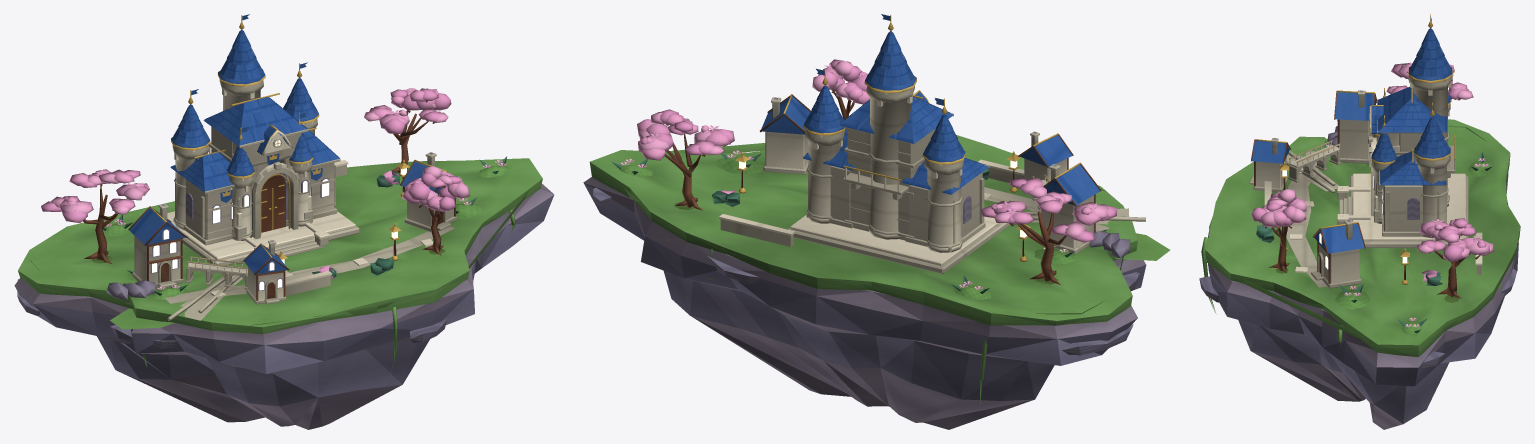
The model's file is royal-island-left-final-v1-low.glb.
3 views of the same model, side by side, from view 1: azimuth 30°, elevation 25°; view 2: azimuth 150°, elevation 25°; view 3: azimuth 270°, elevation 25° (orthographic). The views are drawn at different scales.
Parts seen in each view (by area): view 1: royal-island-left-final-v1; view 2: royal-island-left-final-v1; view 3: royal-island-left-final-v1.
Part boxes in pixels (x1,y1,x2,y2): royal-island-left-final-v1: (14, 14, 554, 429); royal-island-left-final-v1: (583, 14, 1170, 429); royal-island-left-final-v1: (1199, 14, 1520, 429).
Bounding box in the file's own units: 20.45 × 14.91 × 11.74.
10 materials, 10 textured.
